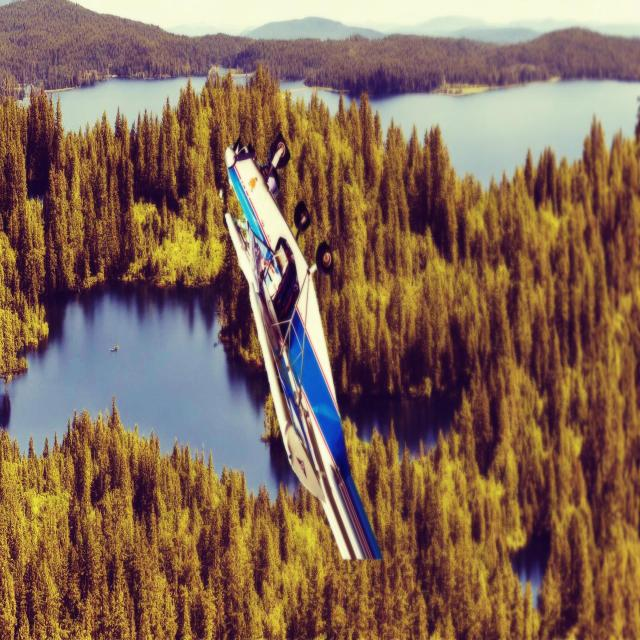airplane: (223, 130, 383, 562)
